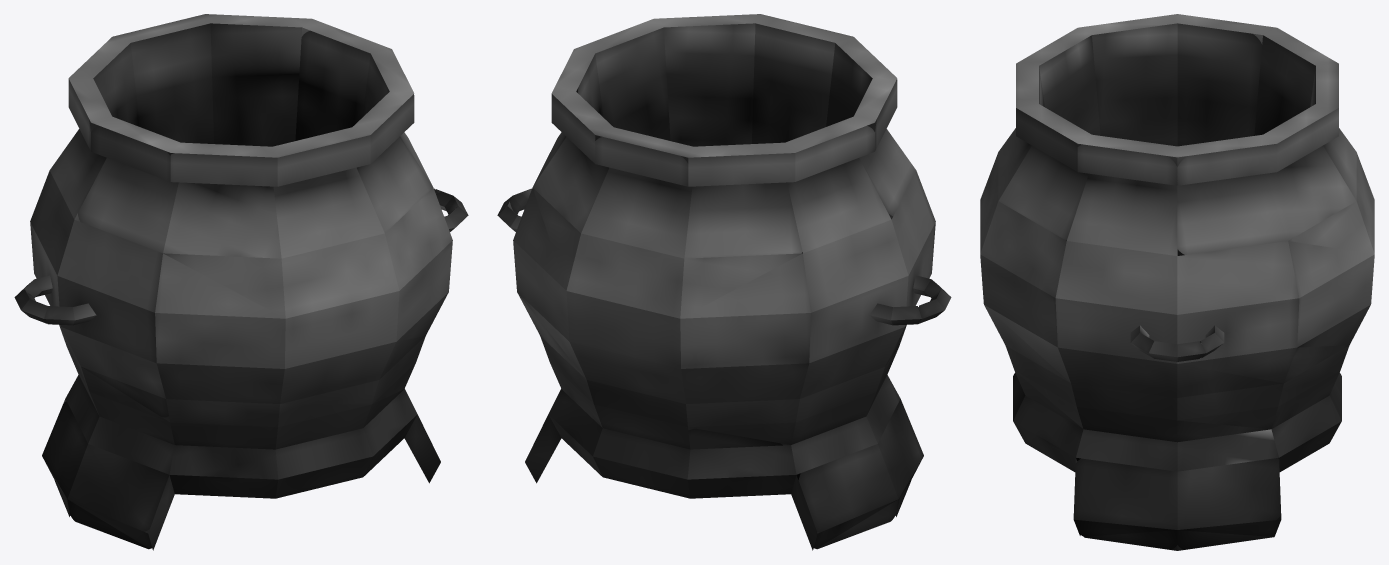
Rendered from caldeiraoRakuran.fbx.
The picture shows the model from 3 angles, left to right: view 1: azimuth 30°, elevation 25°; view 2: azimuth 150°, elevation 25°; view 3: azimuth 270°, elevation 25°; orthographic projection. The views are drawn at different scales.
Visible parts, largest first — view 1: Caldeirao; view 2: Caldeirao; view 3: Caldeirao.
Part boxes in pixels (left/top/right/bottom): Caldeirao: left=14, top=14, right=468, bottom=550; Caldeirao: left=497, top=14, right=951, bottom=550; Caldeirao: left=980, top=14, right=1374, bottom=550.
Size of the model in its own units: 141 by 121 by 112.
1 material, 1 textured.
